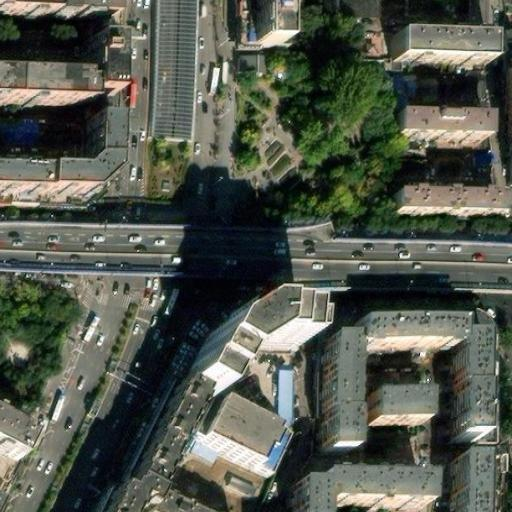building: (325, 329, 479, 443), (113, 385, 209, 512), (182, 314, 293, 394), (211, 364, 289, 429), (298, 475, 428, 512), (399, 29, 491, 56), (394, 104, 487, 130), (41, 161, 111, 195), (393, 181, 501, 202), (86, 42, 115, 100), (370, 391, 421, 421), (451, 464, 478, 512), (498, 63, 512, 151), (86, 122, 109, 162), (0, 422, 22, 461), (235, 52, 265, 77), (94, 492, 127, 512)
